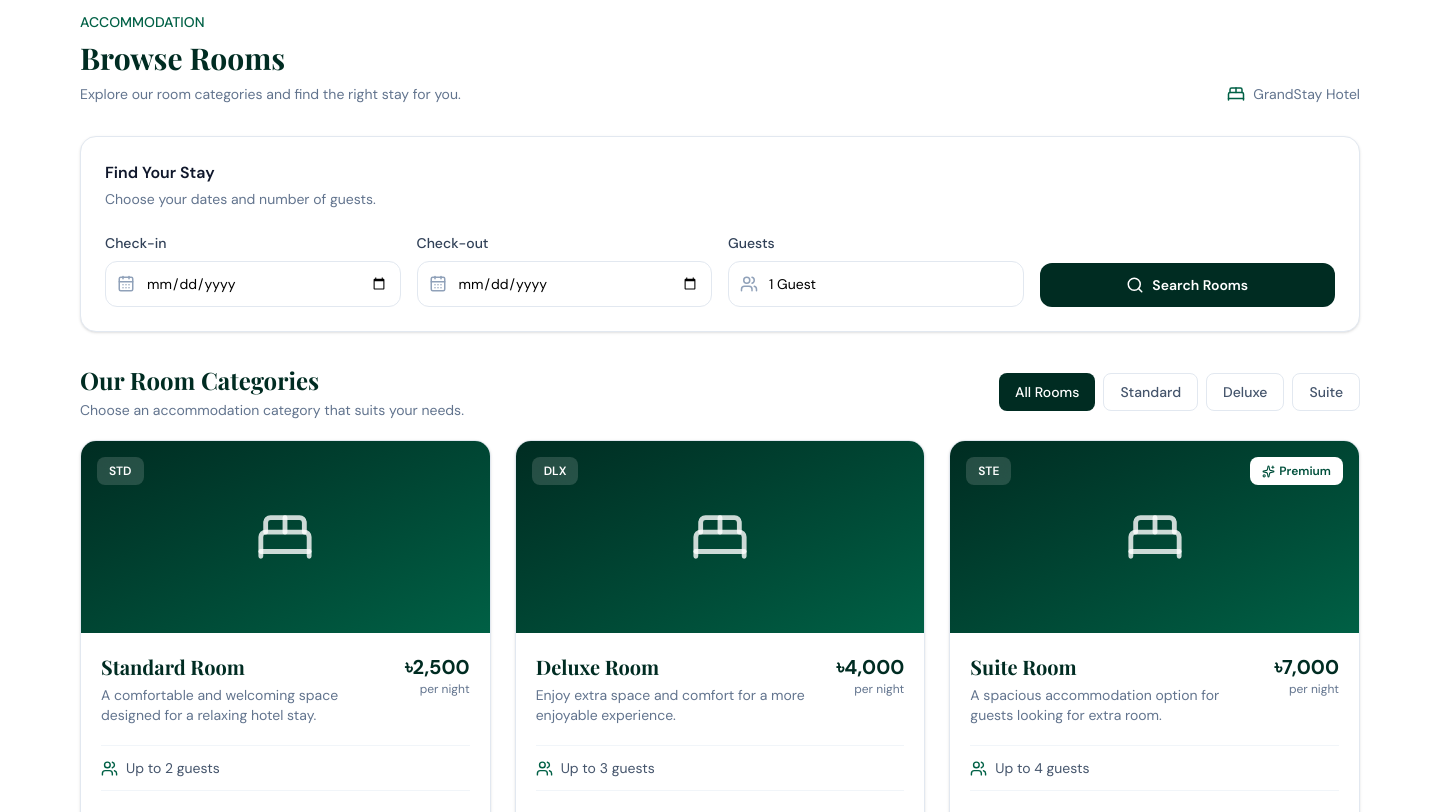
Test: App › requires checkout to be at least one day after check-in when browsing rooms
Step 1. Type "2099-03-08" into the date field labelled "Check-in" → (253, 284), box [105,261,400,307]
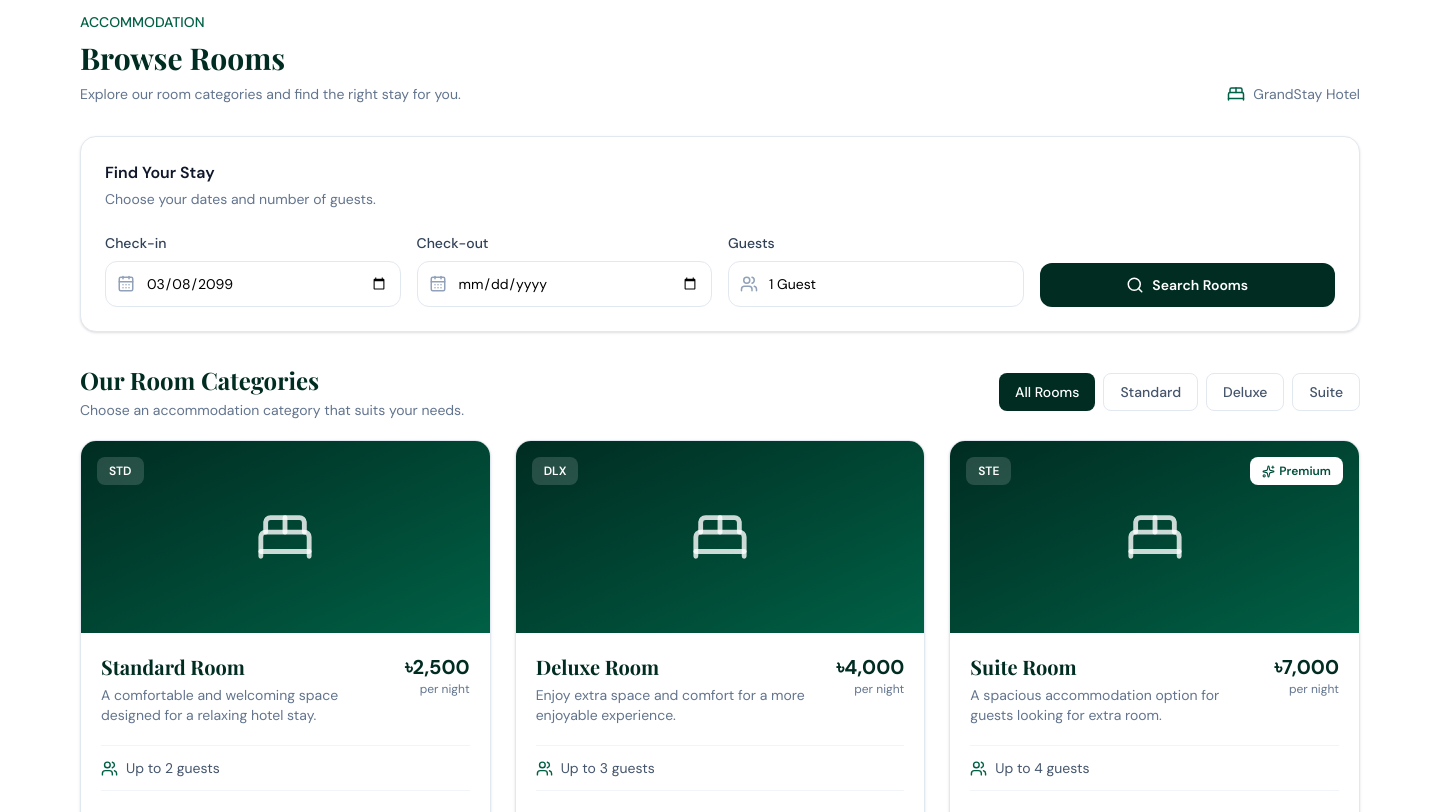
Step 2. Type "2099-03-08" into the date field labelled "Check-out" → (564, 284), box [416,261,712,307]
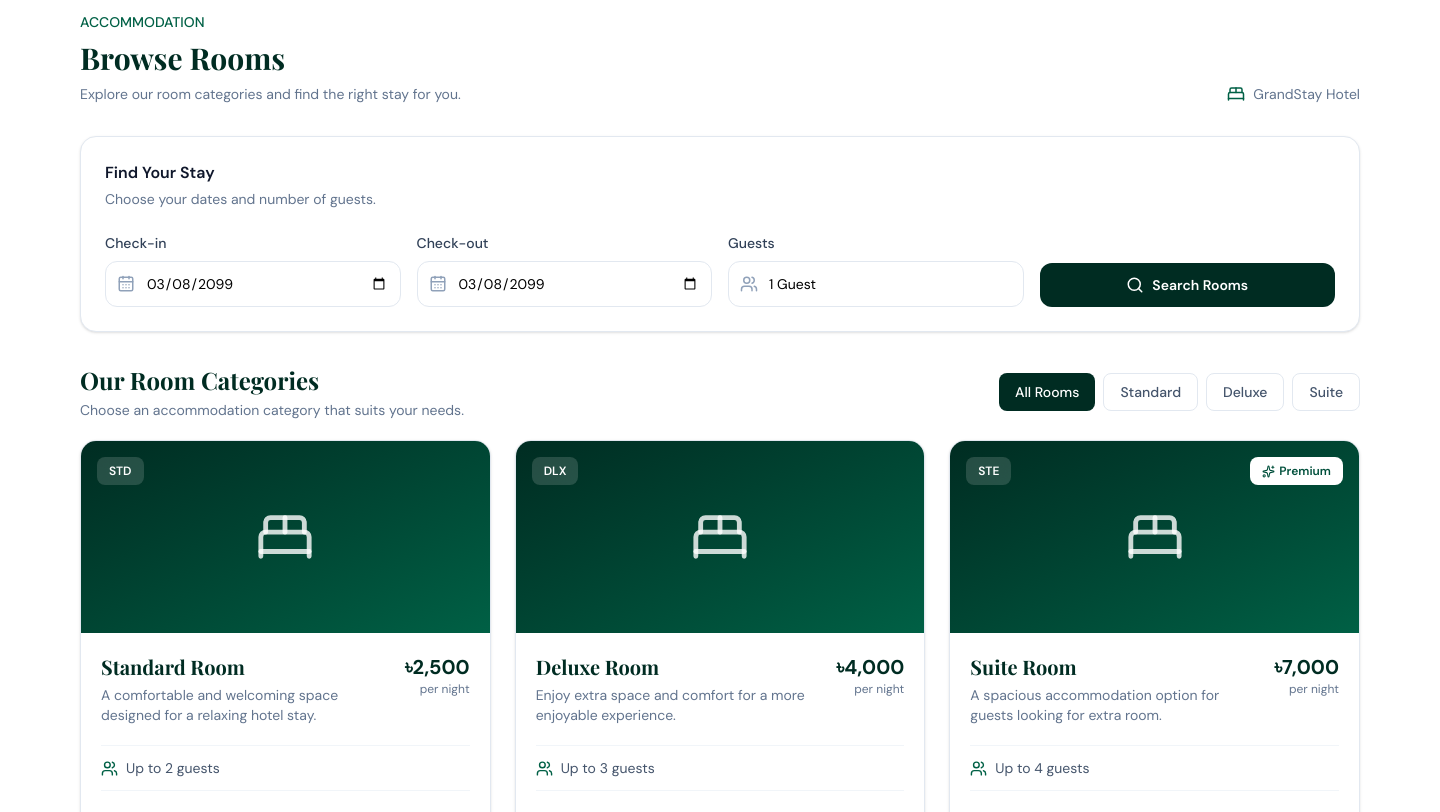
Step 3. Type "2099-03-09" into the date field labelled "Check-in" → (253, 284), box [105,261,400,307]
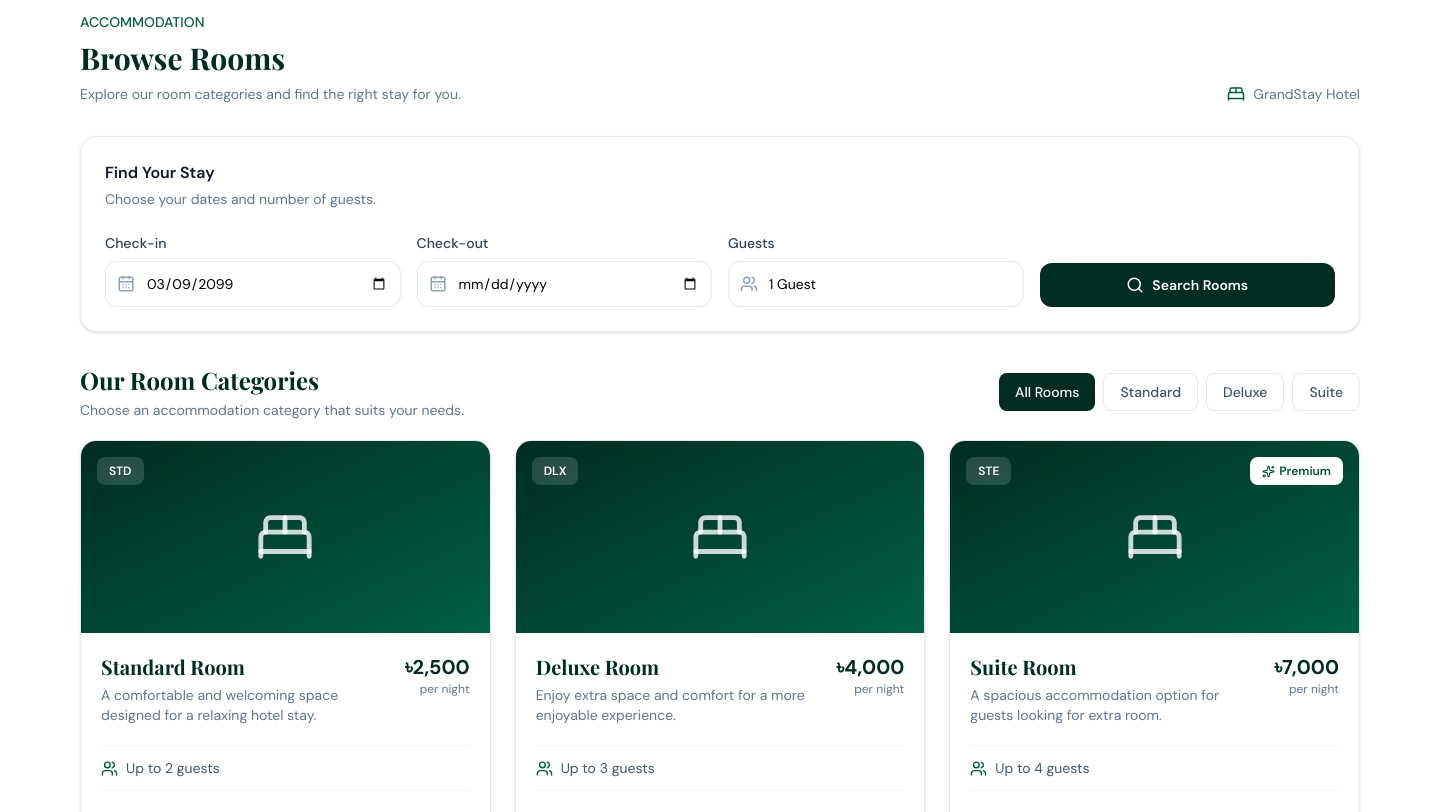
Check: the date field labelled "Check-out" is empty, box [416,261,712,307]
